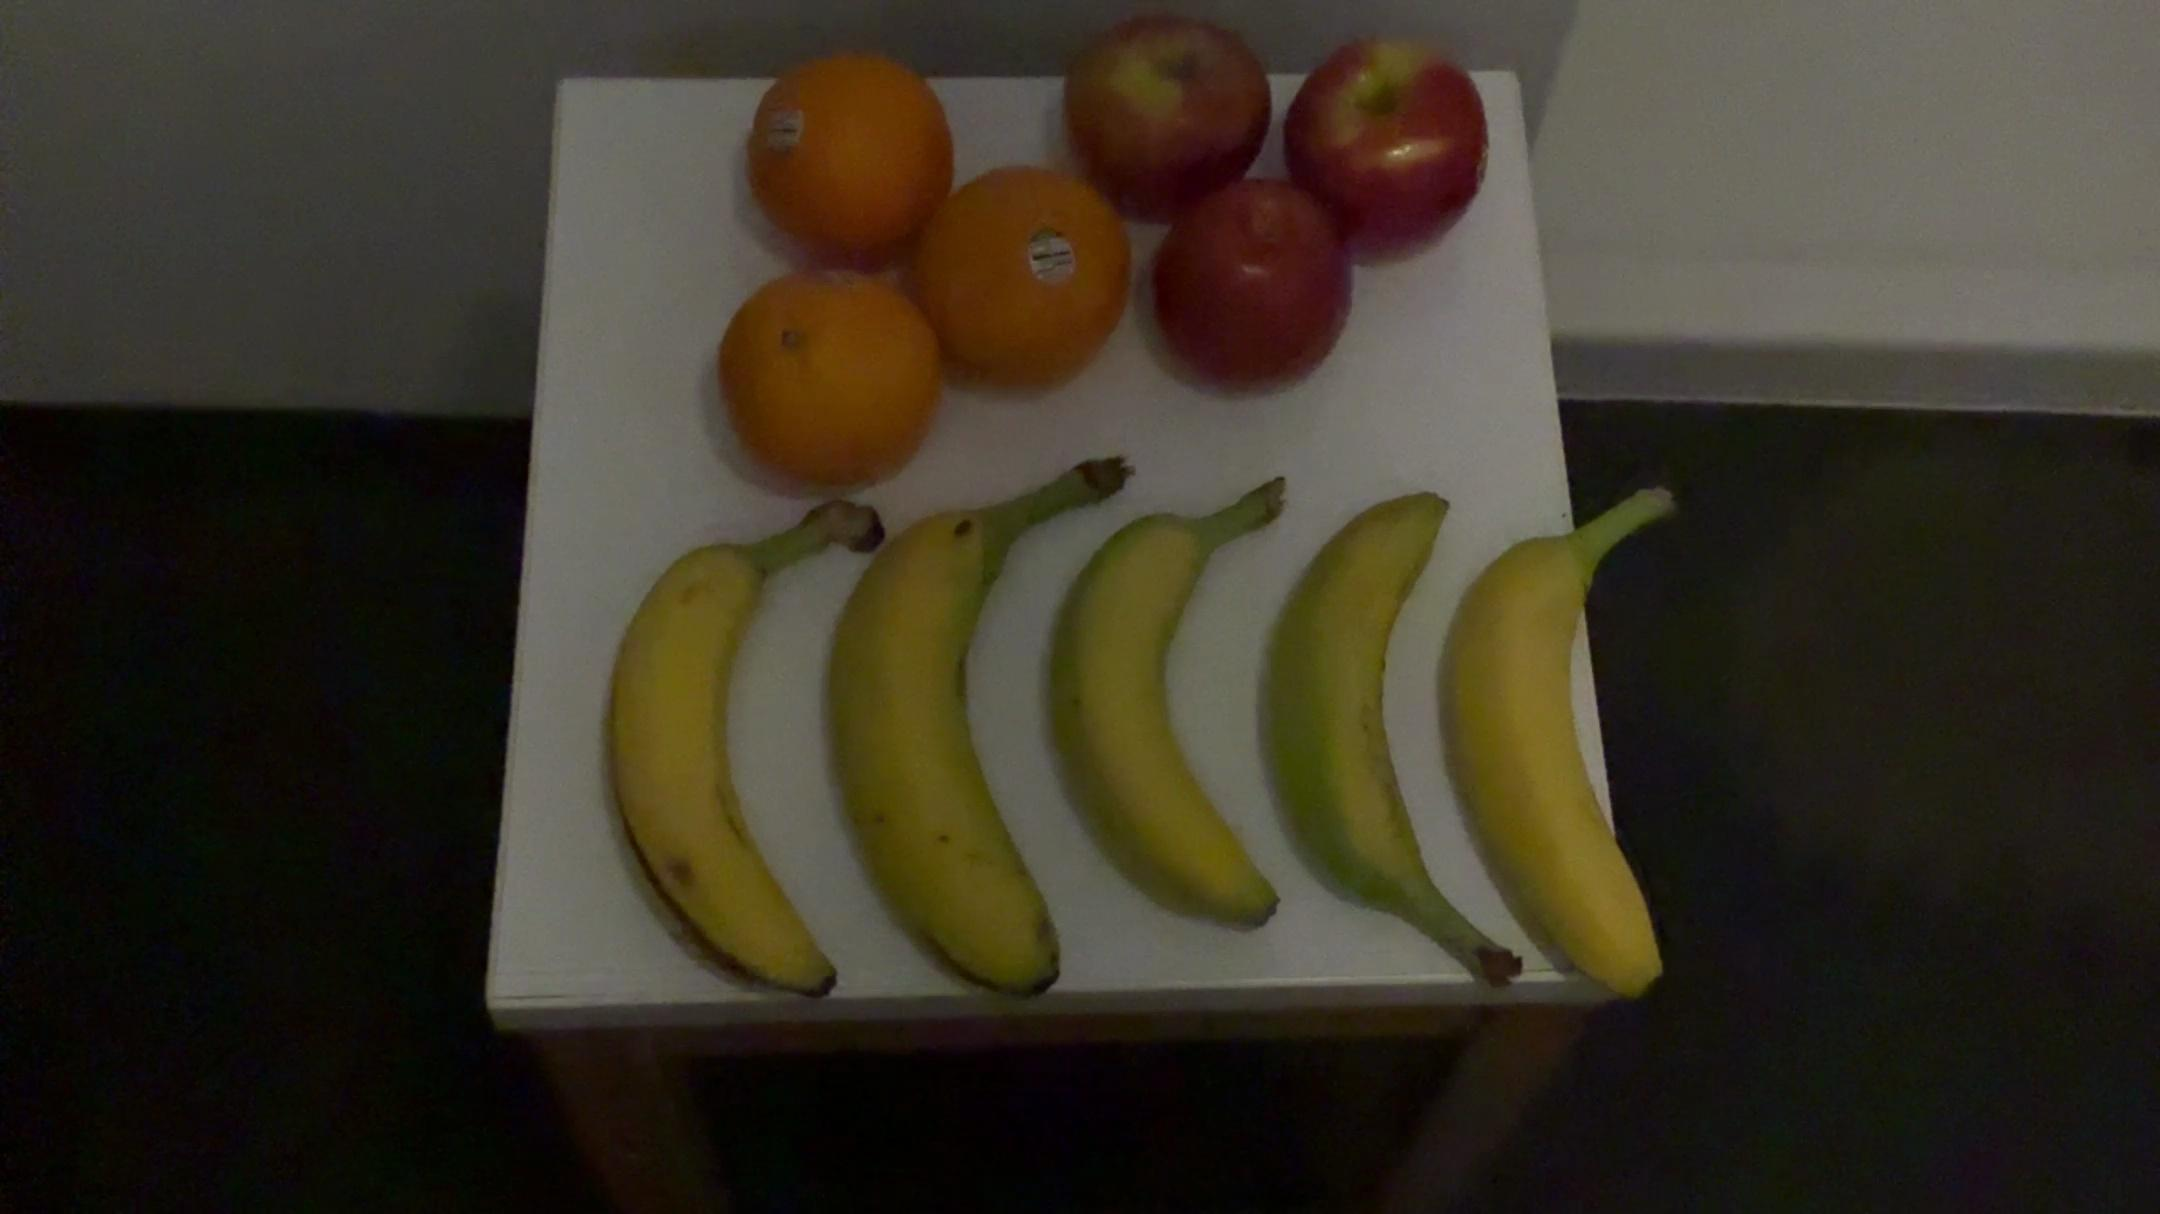apple: (1273, 33, 1503, 263), (1055, 7, 1274, 230), (1151, 181, 1357, 392)
banana: (825, 439, 1119, 1012), (1435, 465, 1718, 1011), (601, 487, 880, 1015), (1265, 485, 1521, 1000), (1041, 459, 1304, 942)
orange: (705, 260, 936, 505), (912, 168, 1135, 413), (739, 47, 957, 264)
